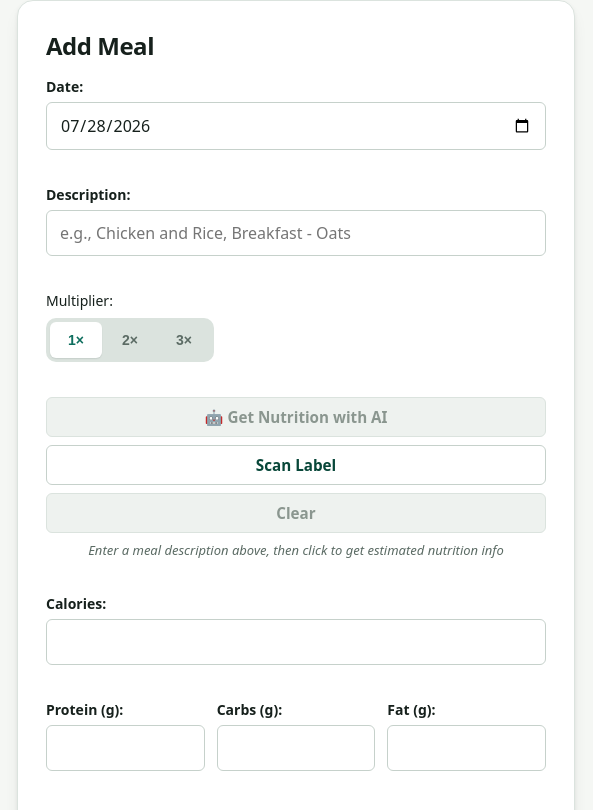
Test case: MealForm › Meal Search Autocomplete › auto-populates form fields when clicking a suggestion
This screenshot has width=593, height=810.
Type "chick" into the field labelled "Description:" at [296, 233], box [46, 210, 546, 256]
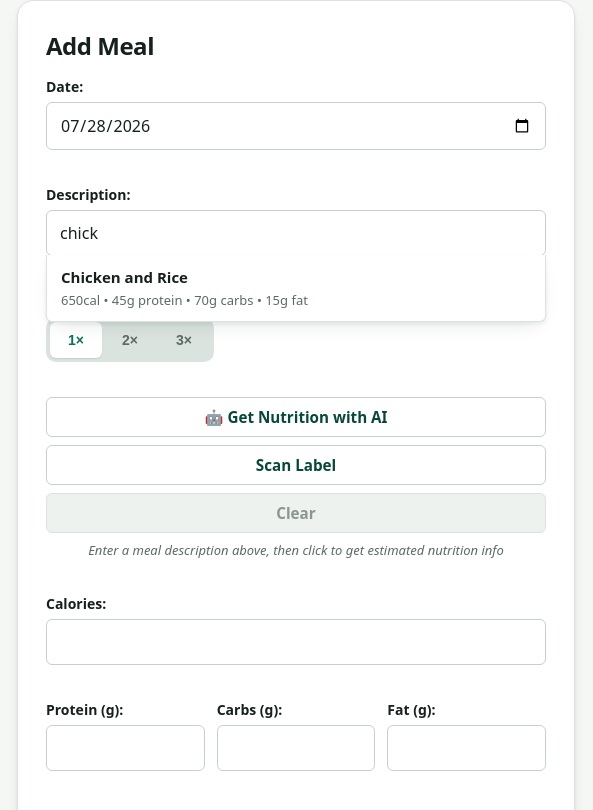
Check: the element with test id "meal-suggestions" is shown, box [46, 255, 546, 322]
# Click the suggestion
Click the text "Chicken and Rice" at [124, 277], box [61, 267, 188, 287]
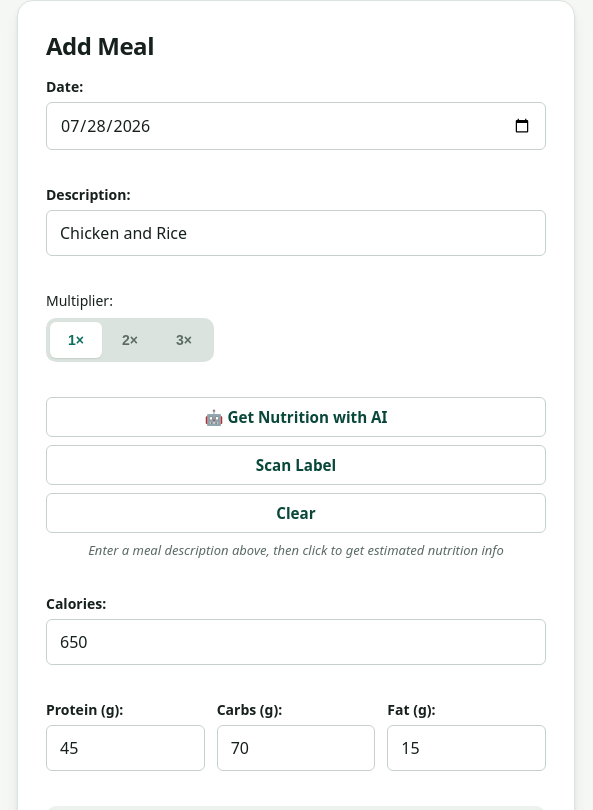
Check: the field labelled "Description:" holds "Chicken and Rice", box [46, 210, 546, 256]
Check: the number field labelled "Calories:" holds "650", box [46, 619, 546, 665]
Check: the number field labelled "Protein (g):" holds "45", box [46, 725, 205, 771]
